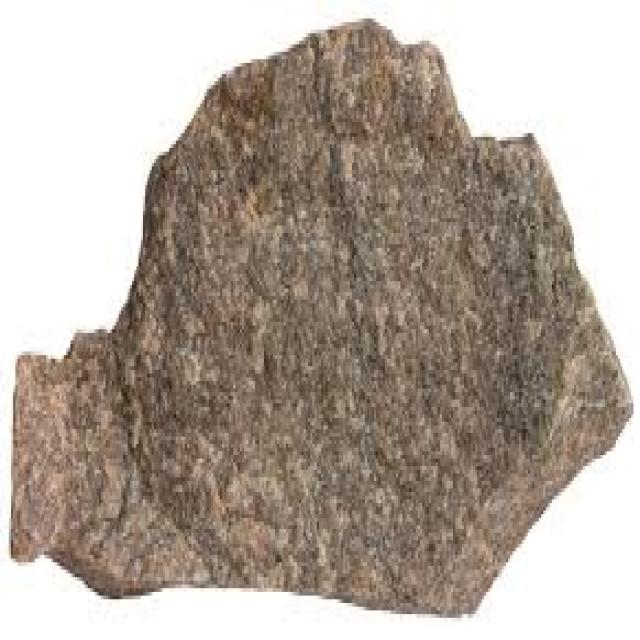Metamorphic: (2, 22, 629, 622)
